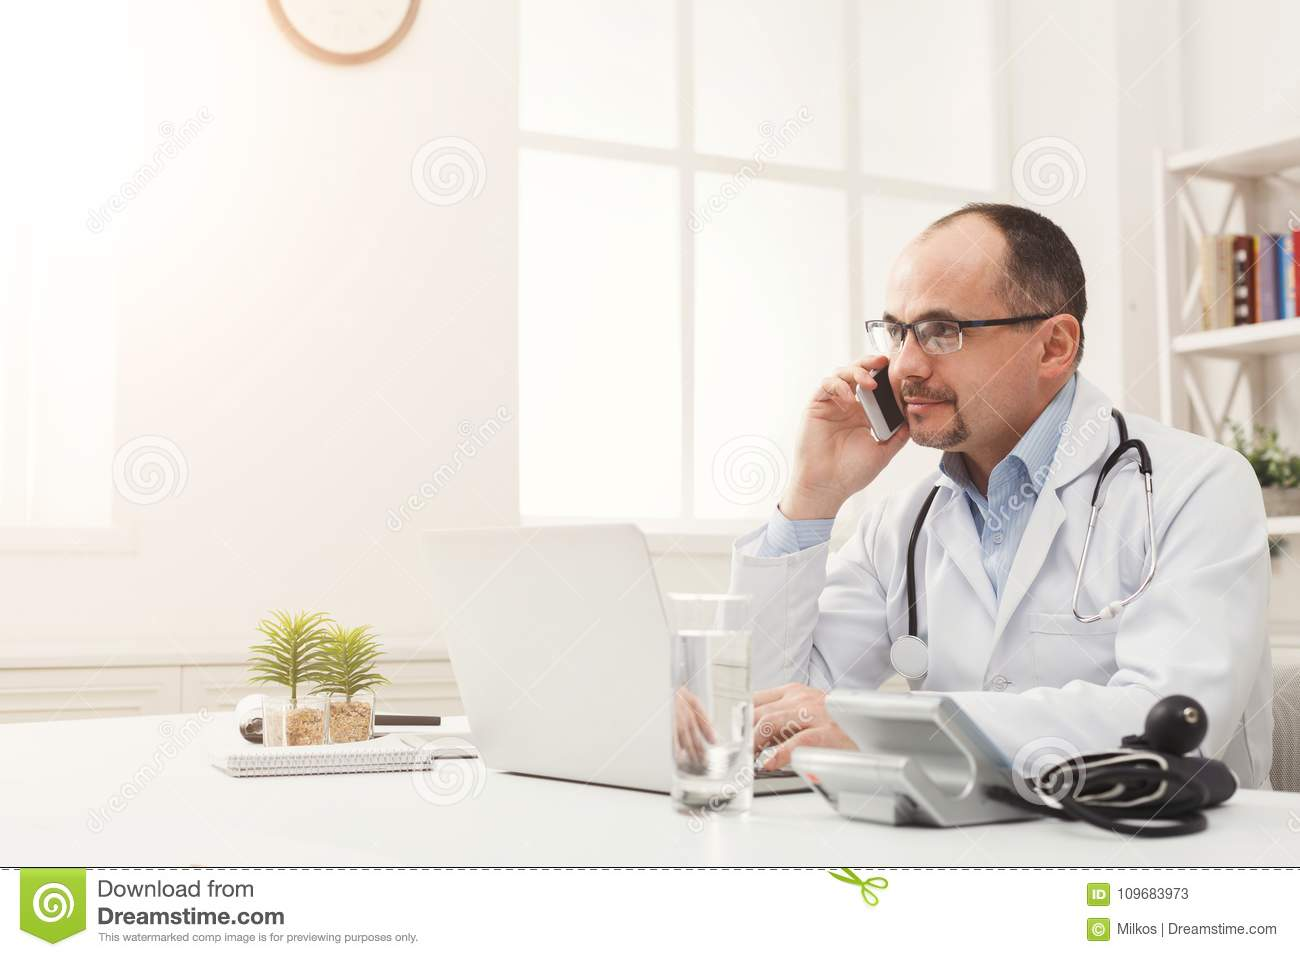phone: (858, 359, 904, 454)
talk: (786, 296, 988, 497)
